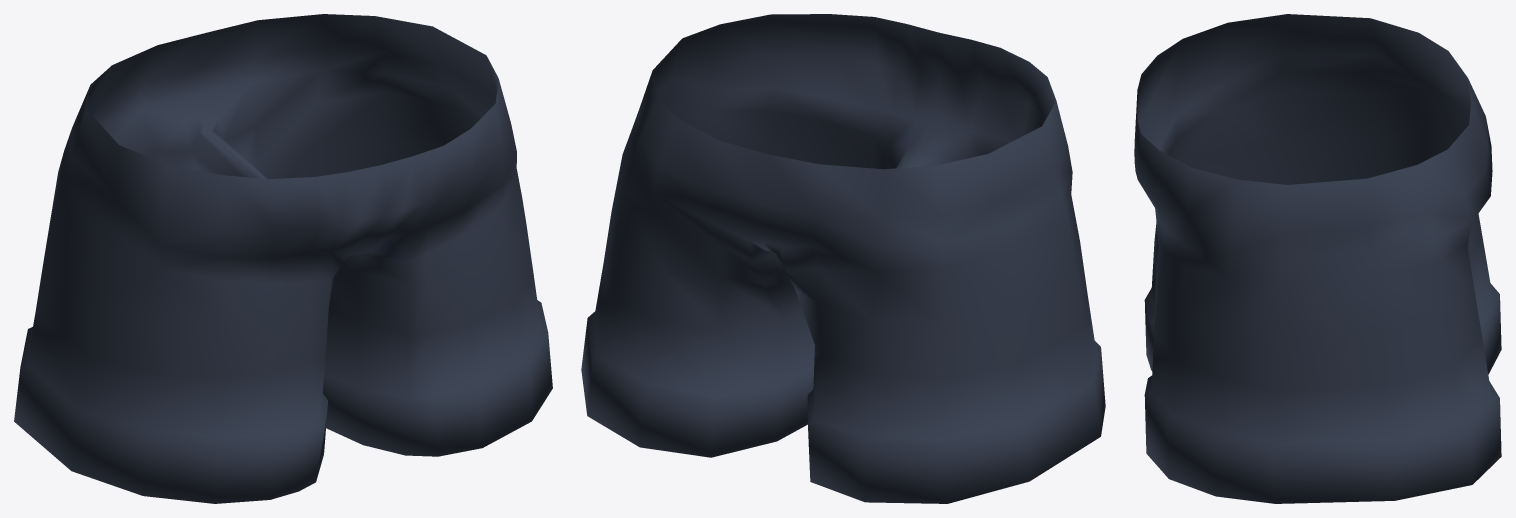
The model's file is sailor-painted-pants.glb.
3 renders of one model, left to right at view 1: azimuth 30°, elevation 25°; view 2: azimuth 150°, elevation 25°; view 3: azimuth 270°, elevation 25°, orthographic. The views are drawn at different scales.
Parts seen in each view (by area): view 1: Sailor_pants; view 2: Sailor_pants; view 3: Sailor_pants.
Part boxes in pixels (x1,y1,x2,y2): Sailor_pants: (14, 14, 552, 503); Sailor_pants: (581, 14, 1105, 503); Sailor_pants: (1134, 14, 1501, 503).
Bounding box in the file's own units: 0.9799 × 0.6386 × 0.6885.
1 material, 1 textured.
